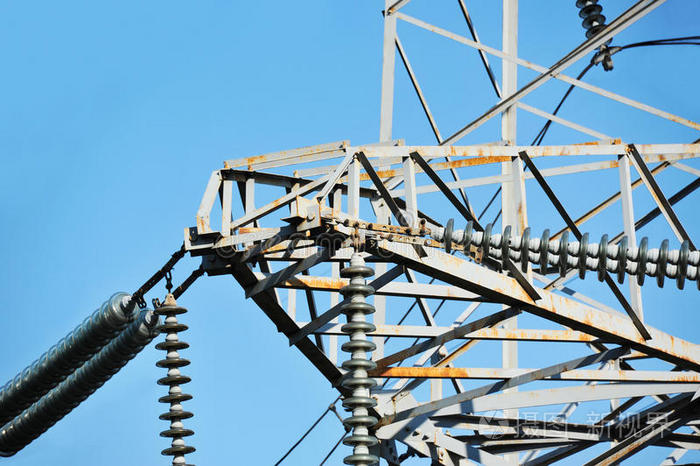insulator: (1, 296, 152, 449), (440, 221, 692, 290), (337, 262, 387, 462), (155, 304, 200, 458), (575, 1, 611, 41)
